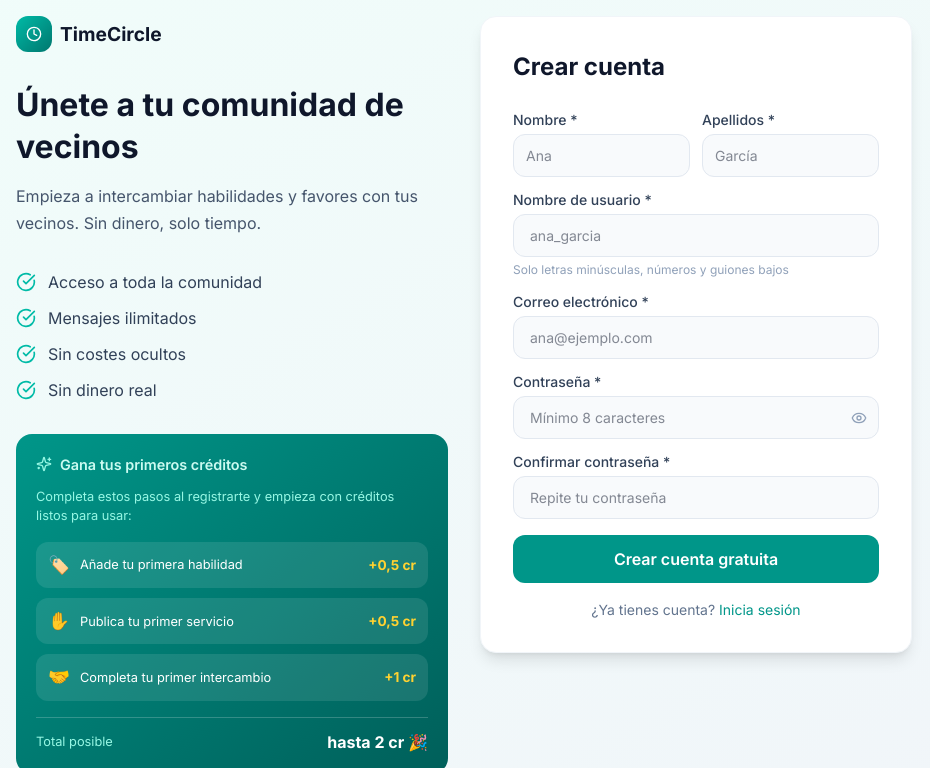
Register page › auto-generates username from first name
In the field labelled "Nombre *": (602, 156) [513, 134, 690, 177], type "Ana María"
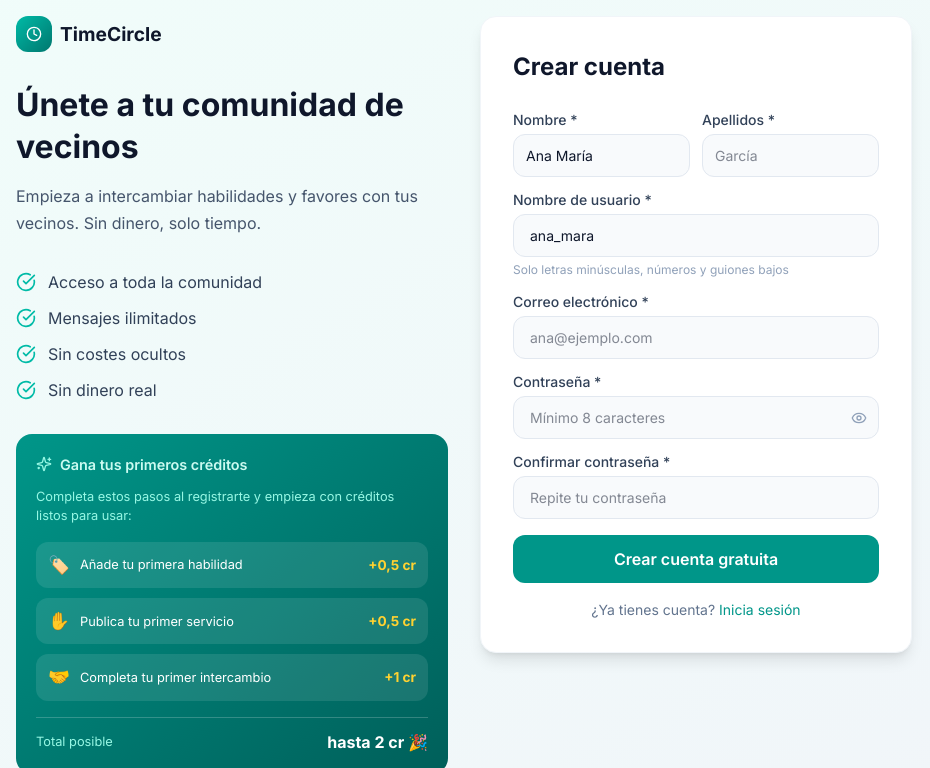
Expected: the field labelled "Nombre de usuario *" holds "ana_mara", [513, 214, 879, 257]
